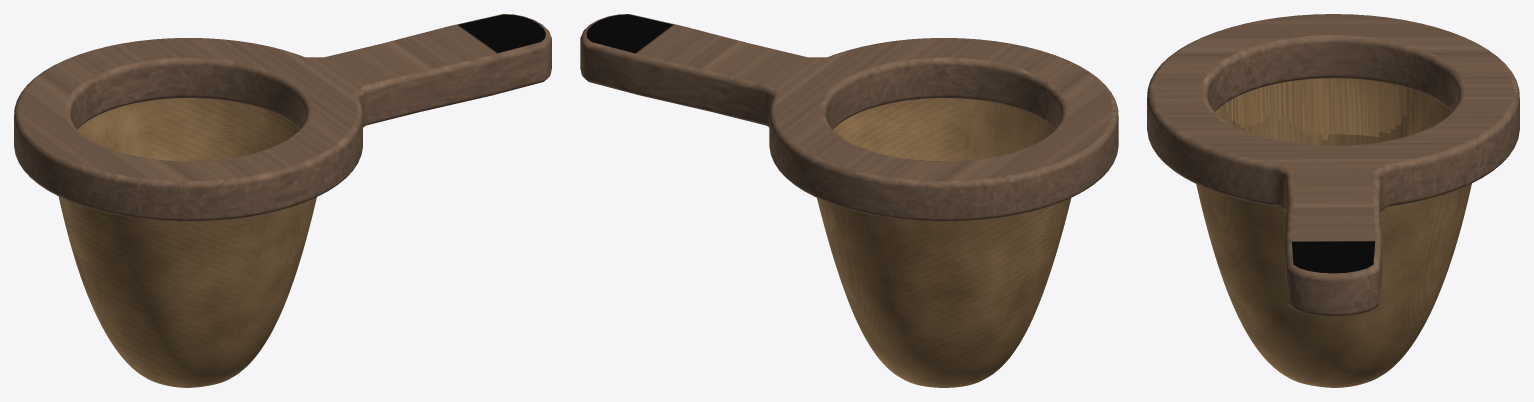
The model's file is saringan.glb.
The picture shows the model from 3 angles, left to right: view 1: azimuth 30°, elevation 25°; view 2: azimuth 150°, elevation 25°; view 3: azimuth 270°, elevation 25°; orthographic projection. The views are drawn at different scales.
Visible parts, largest first — view 1: Saringan_Frame, Saringan_Cloth; view 2: Saringan_Frame, Saringan_Cloth; view 3: Saringan_Frame, Saringan_Cloth.
Part boxes in pixels (<box>): Saringan_Frame: <box>14,14,551,221</box>; Saringan_Cloth: <box>58,98,316,387</box>; Saringan_Frame: <box>580,14,1118,221</box>; Saringan_Cloth: <box>817,98,1071,387</box>; Saringan_Frame: <box>1147,14,1519,316</box>; Saringan_Cloth: <box>1196,78,1471,387</box>.
Bounding box in the file's own units: 4.16 × 2.11 × 2.48.
Materials: 2 (2 with a texture image).
